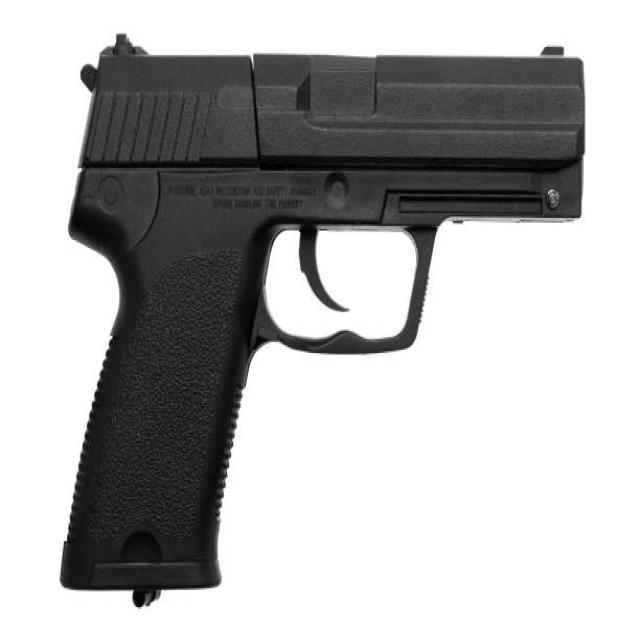pistol: (48, 19, 592, 613)
